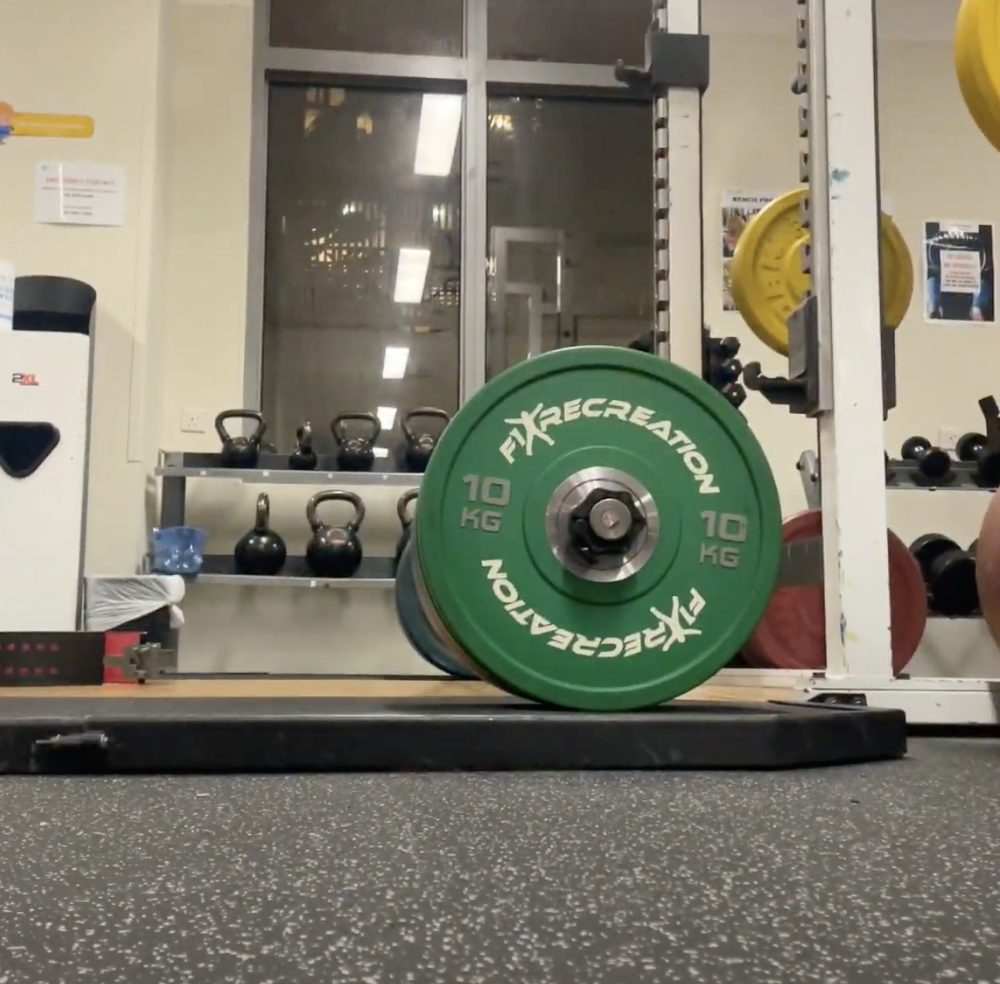barbell: (586, 489, 643, 546)
